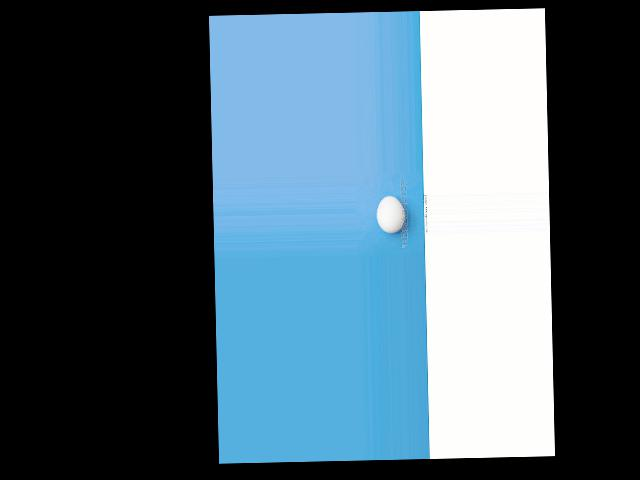egg: (376, 196, 406, 233)
